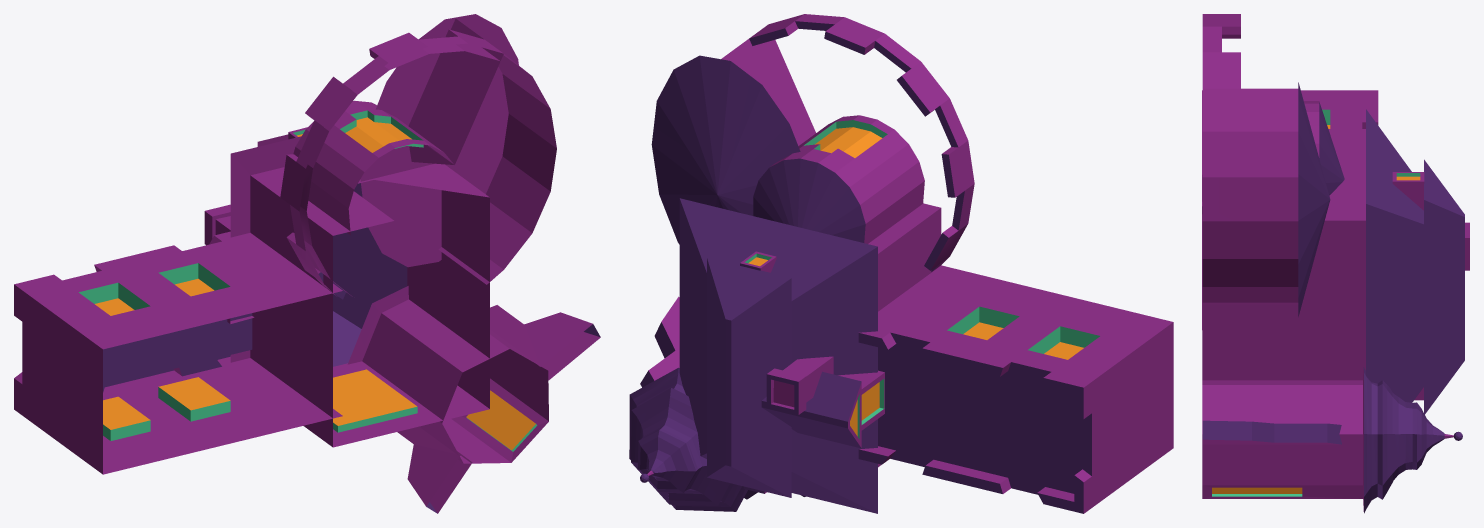
Rendered from Drukarnia trzebińskich Tier 3.fbx.
The picture shows the model from 3 angles, left to right: view 1: azimuth 30°, elevation 25°; view 2: azimuth 150°, elevation 25°; view 3: azimuth 270°, elevation 25°; orthographic projection.
Parts seen in each view (by area): view 1: duzy_dom_Cube_001; view 2: duzy_dom_Cube_001; view 3: duzy_dom_Cube_001.
Boxes of the visible parts, x1,y1,x2,y2 form: duzy_dom_Cube_001: (14,14,600,513); duzy_dom_Cube_001: (629,14,1173,513); duzy_dom_Cube_001: (1202,14,1469,513).
Bounding box in the file's own units: 4.18 × 3.77 × 1.97.
